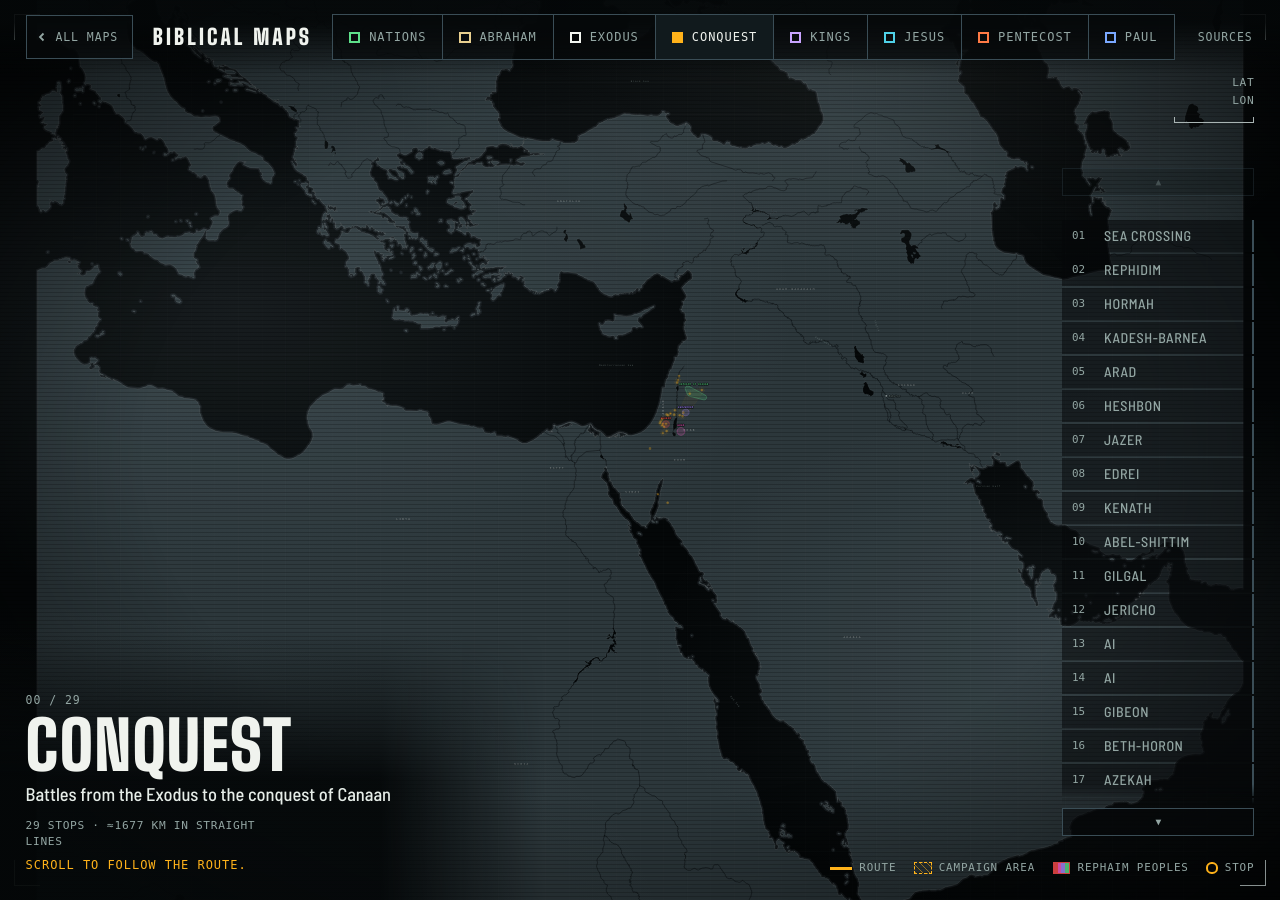
Scenario: App › follows Abraham from Ur to the sacrifice of Isaac
Click the button "Abraham": (499, 37) left=443, top=15, right=554, bottom=59
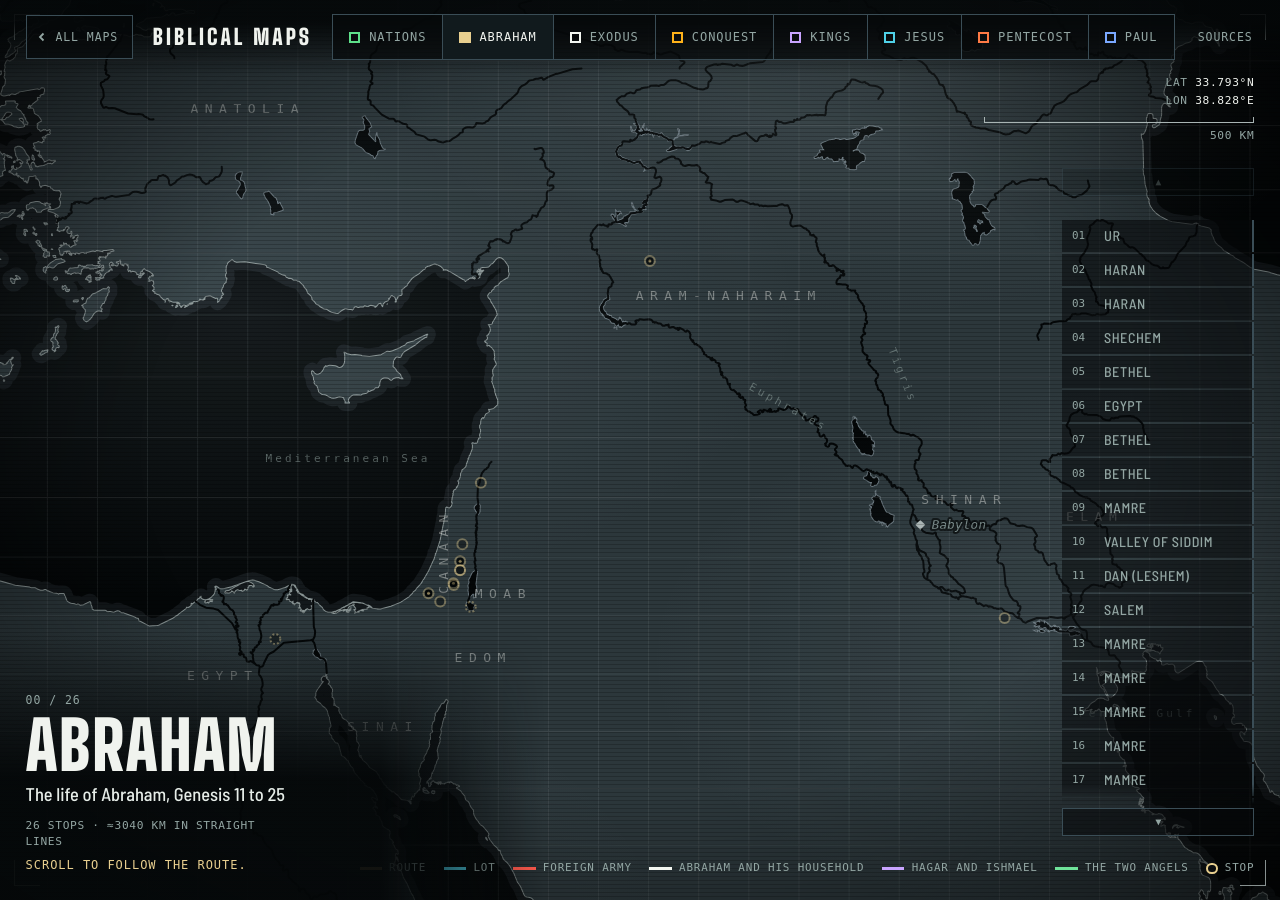
Expected: the button "ur, gen 11:27–31" is shown, left=985, top=598, right=1032, bottom=638
Expected: the heading "Abraham" is shown, left=26, top=705, right=278, bottom=785
